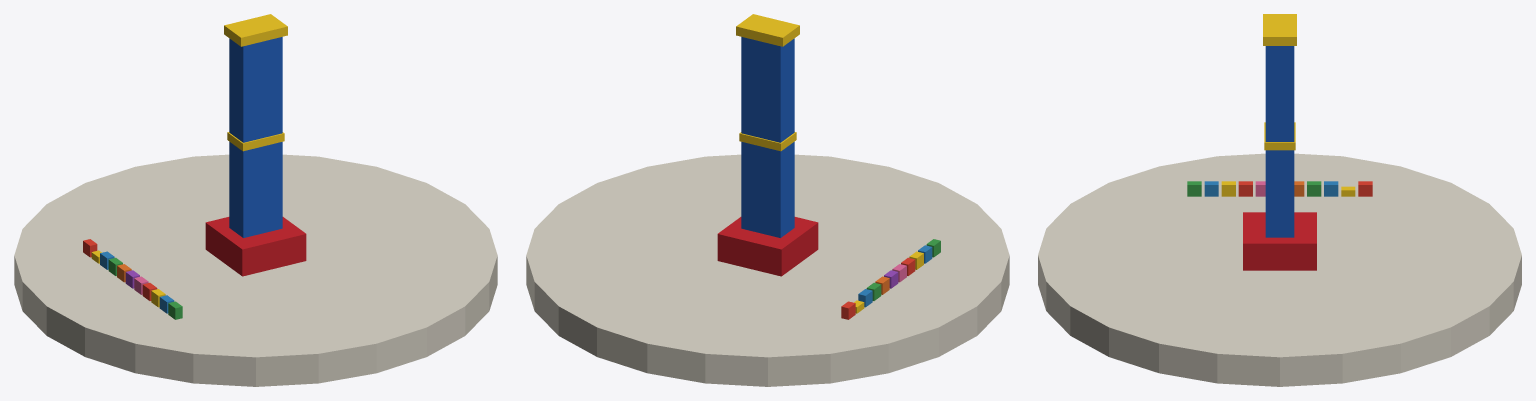
Rendered from rb_sannicolas.glb.
The picture shows the model from 3 angles, left to right: view 1: azimuth 30°, elevation 25°; view 2: azimuth 150°, elevation 25°; view 3: azimuth 270°, elevation 25°; orthographic projection.
Parts seen in each view (by area): view 1: rb_sannicolas_lod0; view 2: rb_sannicolas_lod0; view 3: rb_sannicolas_lod0.
Part boxes in pixels (left/top/right/bottom): rb_sannicolas_lod0: left=14, top=14, right=497, bottom=386; rb_sannicolas_lod0: left=526, top=14, right=1009, bottom=386; rb_sannicolas_lod0: left=1038, top=14, right=1521, bottom=386.
Size of what is drawn, in the model's own units: 17 by 10.05 by 17.
